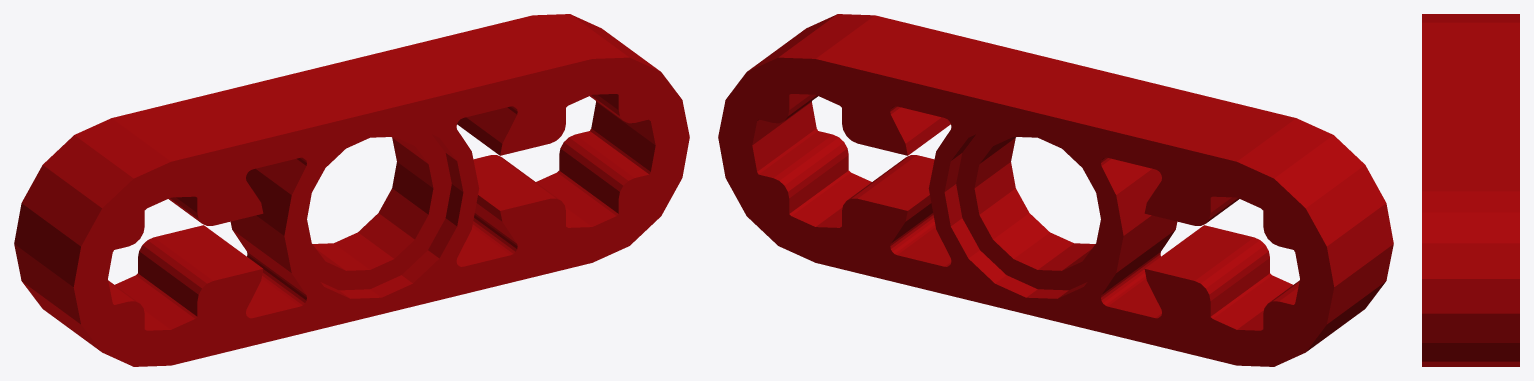
The model's file is 6632 lever 3M.dae.
The picture shows the model from 3 angles, left to right: view 1: azimuth 30°, elevation 25°; view 2: azimuth 150°, elevation 25°; view 3: azimuth 270°, elevation 25°; orthographic projection. The views are drawn at different scales.
Visible parts, largest first — view 1: Part_6632.1; view 2: Part_6632.1; view 3: Part_6632.1.
Part boxes in pixels (x1,y1,x2,y2): Part_6632.1: [14, 14, 689, 366]; Part_6632.1: [718, 14, 1393, 366]; Part_6632.1: [1422, 14, 1519, 366].
Bounding box in the file's own units: 23.4 × 7.4 × 3.92.
